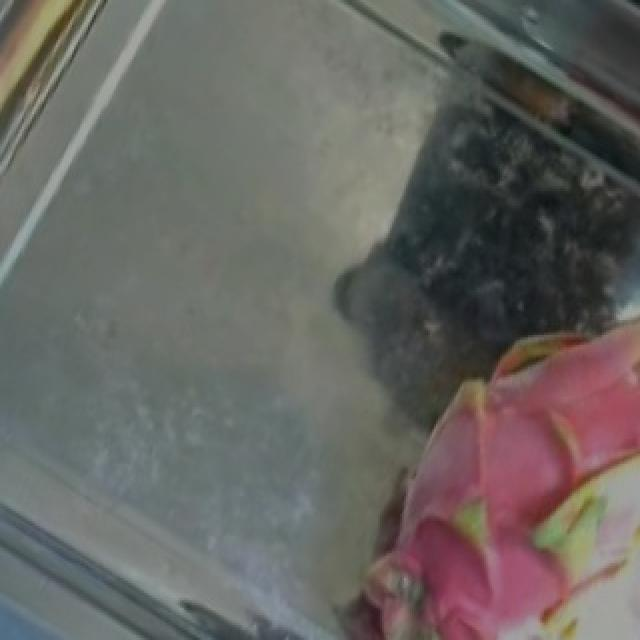fruit: (286, 225, 640, 638)
